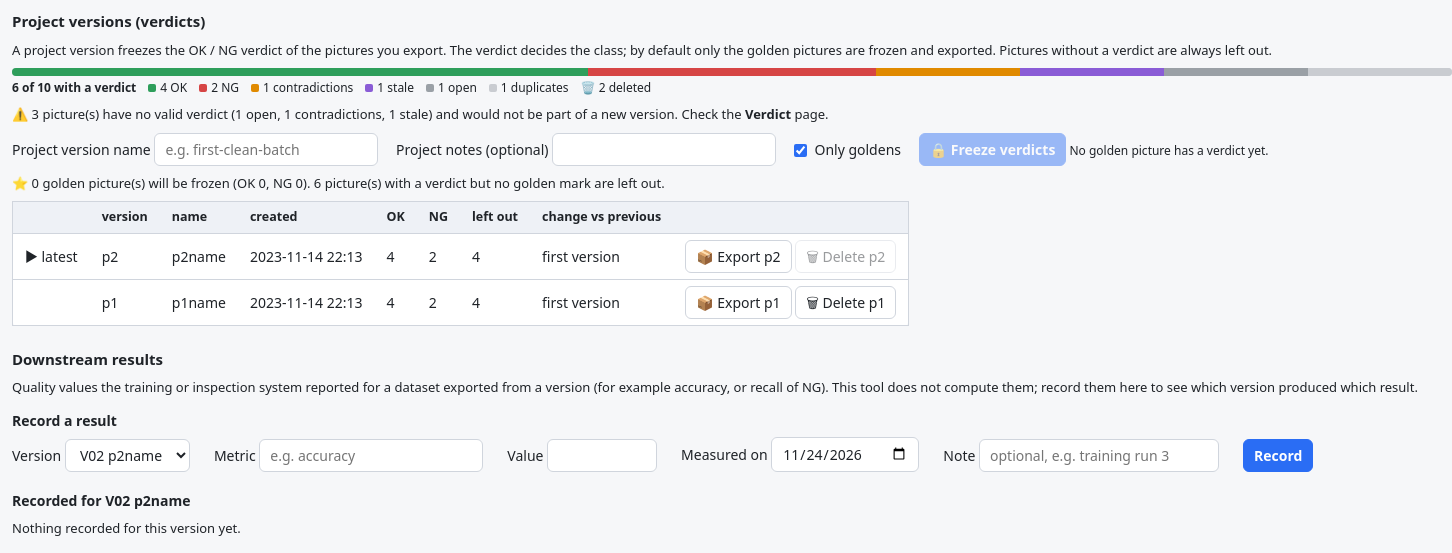
with goldens only, freezing needs at least one golden with a verdict
The width and height of the screenshot is (1452, 553).
Check: the table named "Project version history" is shown, box x1=12 y1=201 x2=909 y2=326
Check: the button "🔒 Freeze verdicts" is disabled, box x1=919 y1=132 x2=1066 y2=166
Click the checkbox labelled "Only goldens".
click(800, 151)  # box x1=794 y1=144 x2=807 y2=157
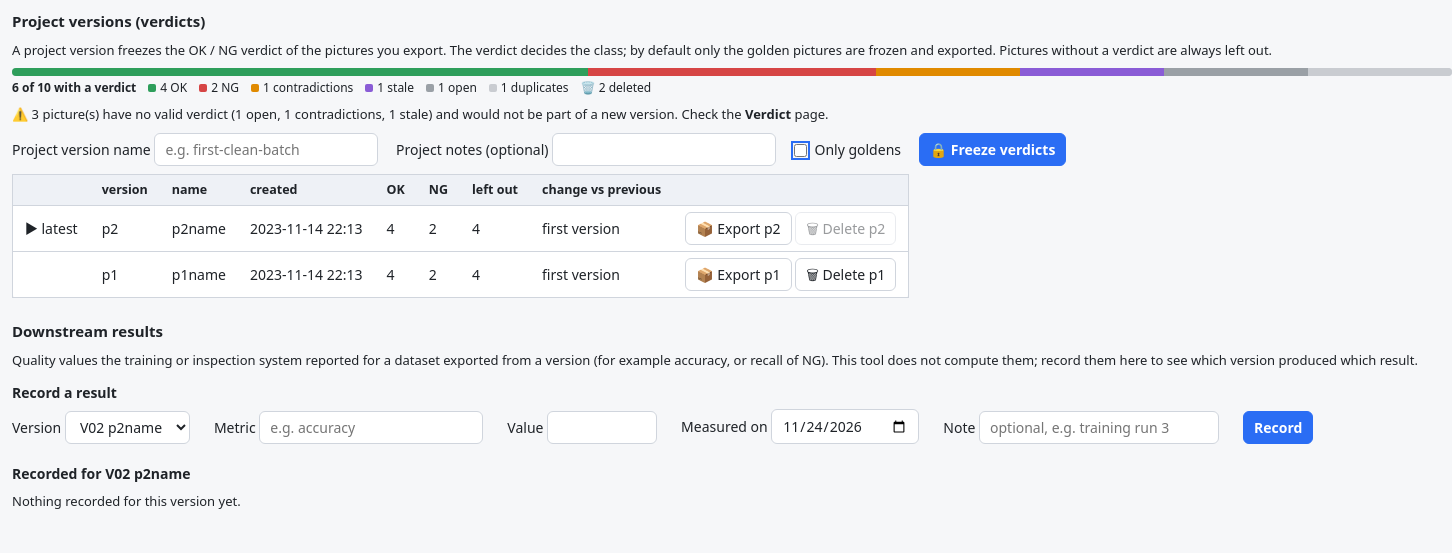
Check: the button "🔒 Freeze verdicts" is enabled, box x1=919 y1=132 x2=1066 y2=166
